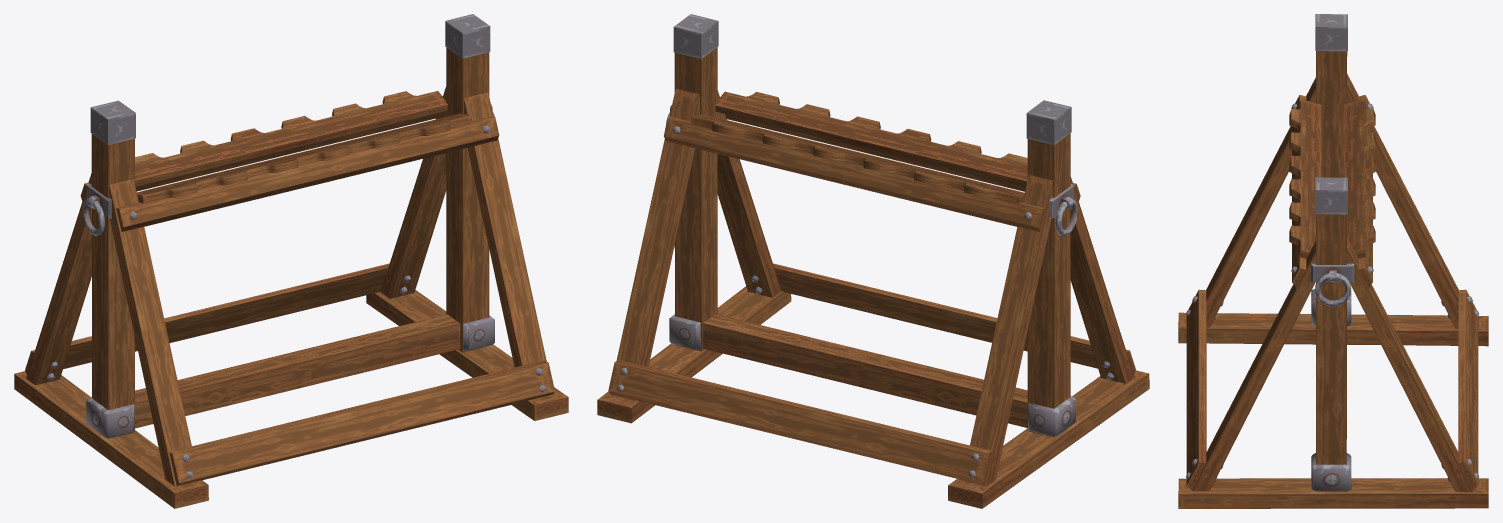
Rendered from weapon_stand.glb.
3 views of the same model, side by side, from view 1: azimuth 30°, elevation 25°; view 2: azimuth 150°, elevation 25°; view 3: azimuth 270°, elevation 25° (orthographic). The views are drawn at different scales.
Visible parts, largest first — view 1: WeaponStand; view 2: WeaponStand; view 3: WeaponStand.
Part boxes in pixels (x1,y1,x2,y2): WeaponStand: (14,14,568,508); WeaponStand: (597,14,1149,508); WeaponStand: (1178,14,1488,508).
Bounding box in the file's own units: 1.39 × 1.11 × 0.9831.
Materials: 2 (2 with a texture image).
